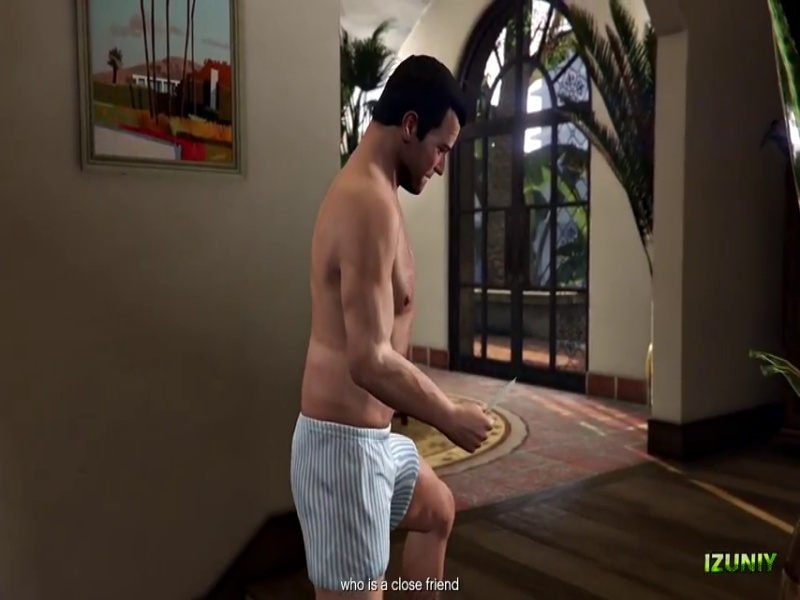human: (296, 49, 506, 596)
